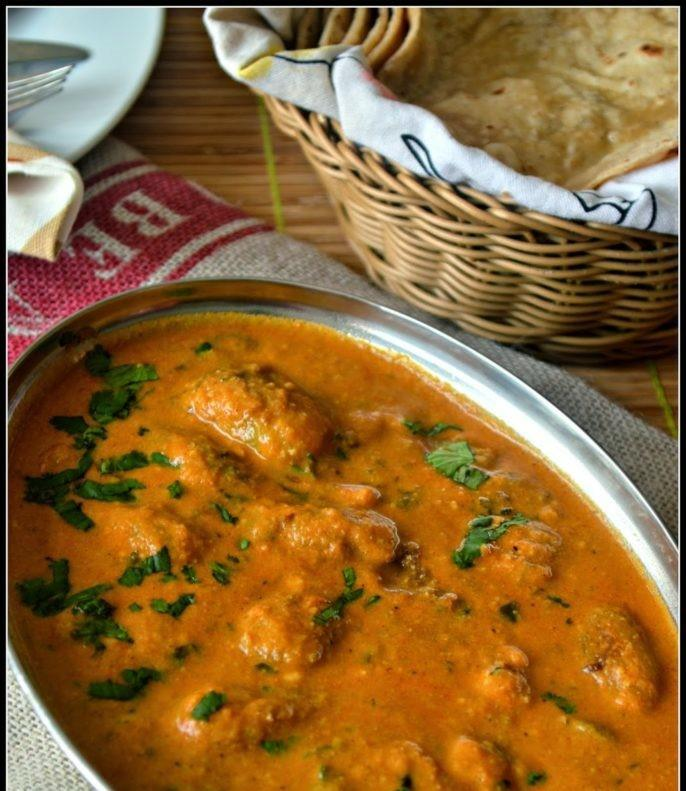DumAloo: (9, 314, 678, 791)
